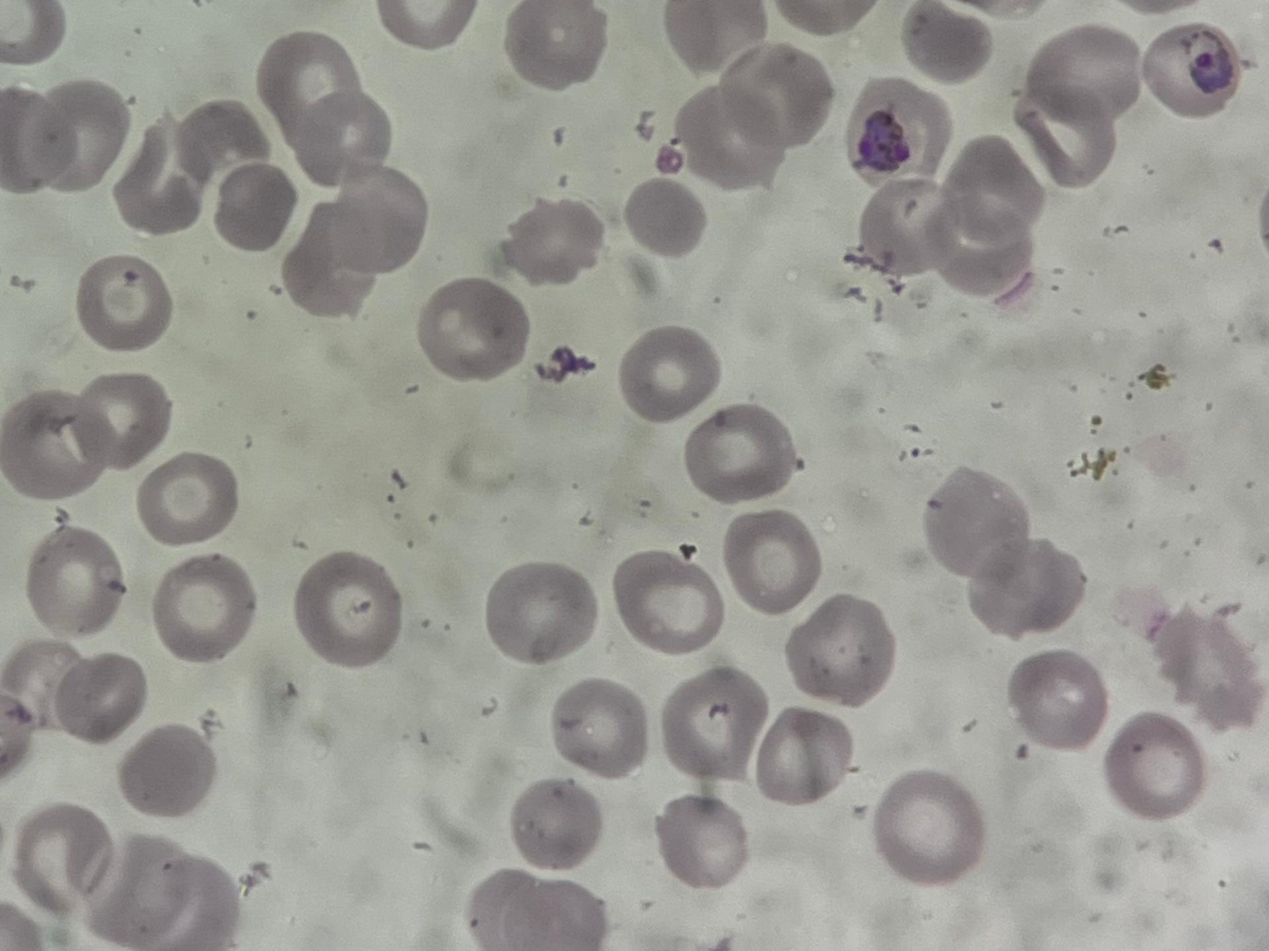Infected: (844, 79, 951, 188), (1140, 22, 1239, 118)
Uninfected: (282, 174, 427, 316), (1012, 26, 1140, 186), (0, 77, 128, 196), (1148, 605, 1260, 726), (291, 552, 405, 667), (870, 771, 985, 882), (660, 670, 769, 782), (483, 560, 600, 664), (783, 595, 892, 706), (79, 833, 188, 943), (150, 555, 259, 663), (0, 389, 108, 498), (416, 277, 529, 381), (723, 47, 837, 149), (11, 804, 114, 916), (923, 467, 1028, 576), (673, 90, 784, 193), (23, 527, 124, 640), (683, 404, 797, 503), (613, 552, 722, 654), (970, 544, 1085, 640), (925, 195, 1031, 298), (945, 137, 1043, 246), (1102, 714, 1204, 818), (256, 32, 363, 131), (617, 327, 726, 424), (469, 870, 601, 949), (111, 125, 203, 237), (721, 510, 823, 611), (1005, 650, 1108, 749), (861, 177, 964, 276), (135, 451, 241, 547), (548, 678, 646, 779), (75, 254, 174, 352), (118, 724, 219, 819), (74, 373, 171, 470), (498, 196, 604, 284), (295, 95, 395, 186), (509, 778, 605, 872), (755, 710, 852, 802), (654, 796, 749, 888), (506, 1, 607, 87), (176, 98, 270, 184), (58, 656, 145, 740), (213, 162, 296, 249), (622, 178, 706, 258)
